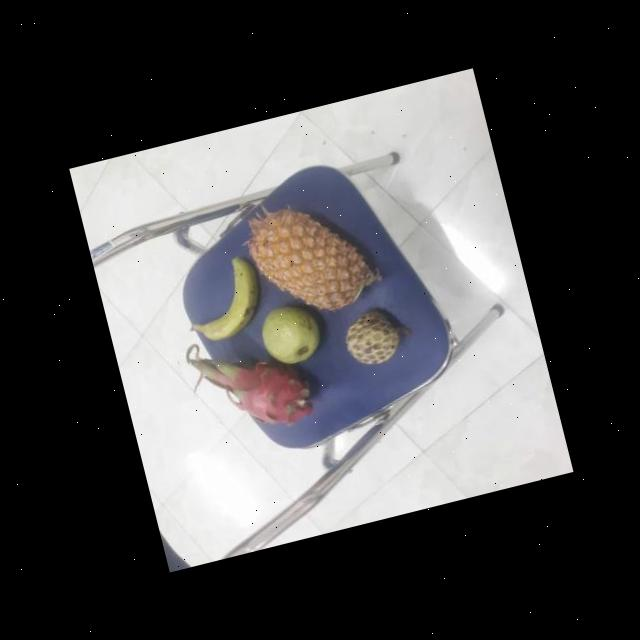Sakya fruit: (338, 300, 406, 368)
banana: (175, 250, 268, 344)
guava: (254, 296, 326, 370)
pineapple: (241, 186, 379, 324)
pitaya: (214, 338, 316, 436)
